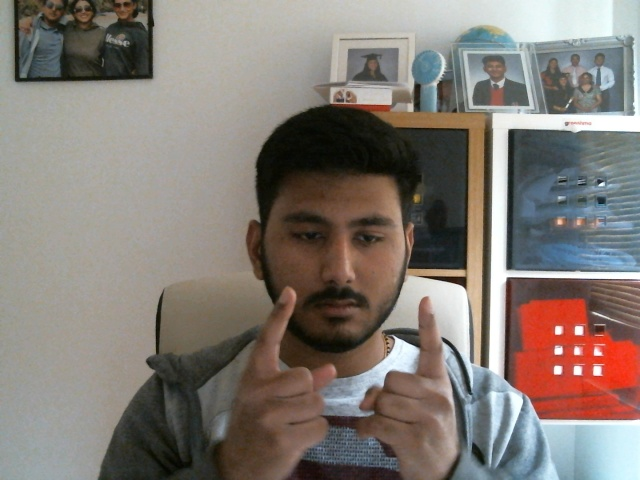meet: (243, 285, 442, 432)
